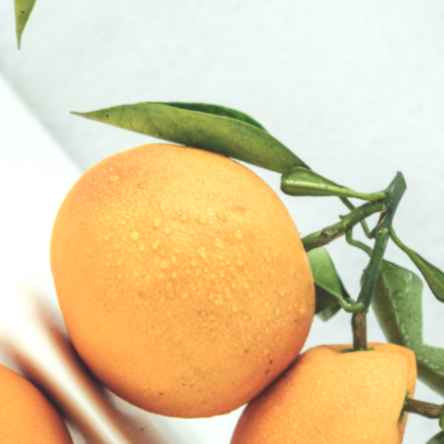orange: (0, 48, 408, 444)
